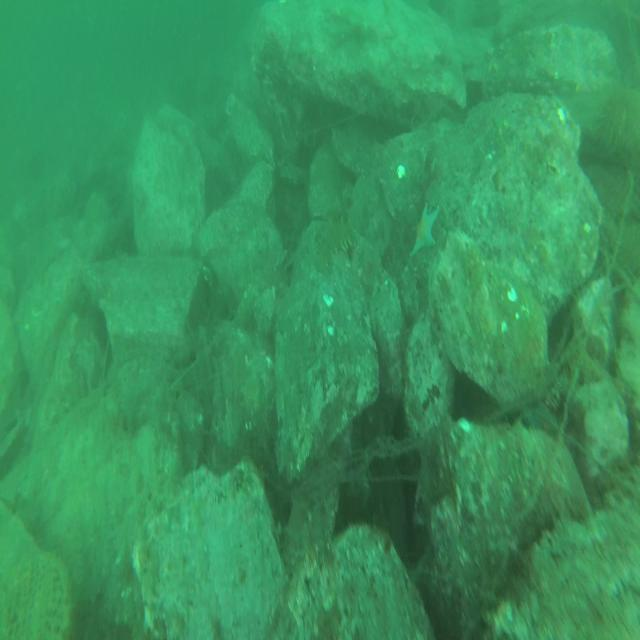holothurian: (313, 214, 352, 276)
starfish: (409, 205, 440, 257)
